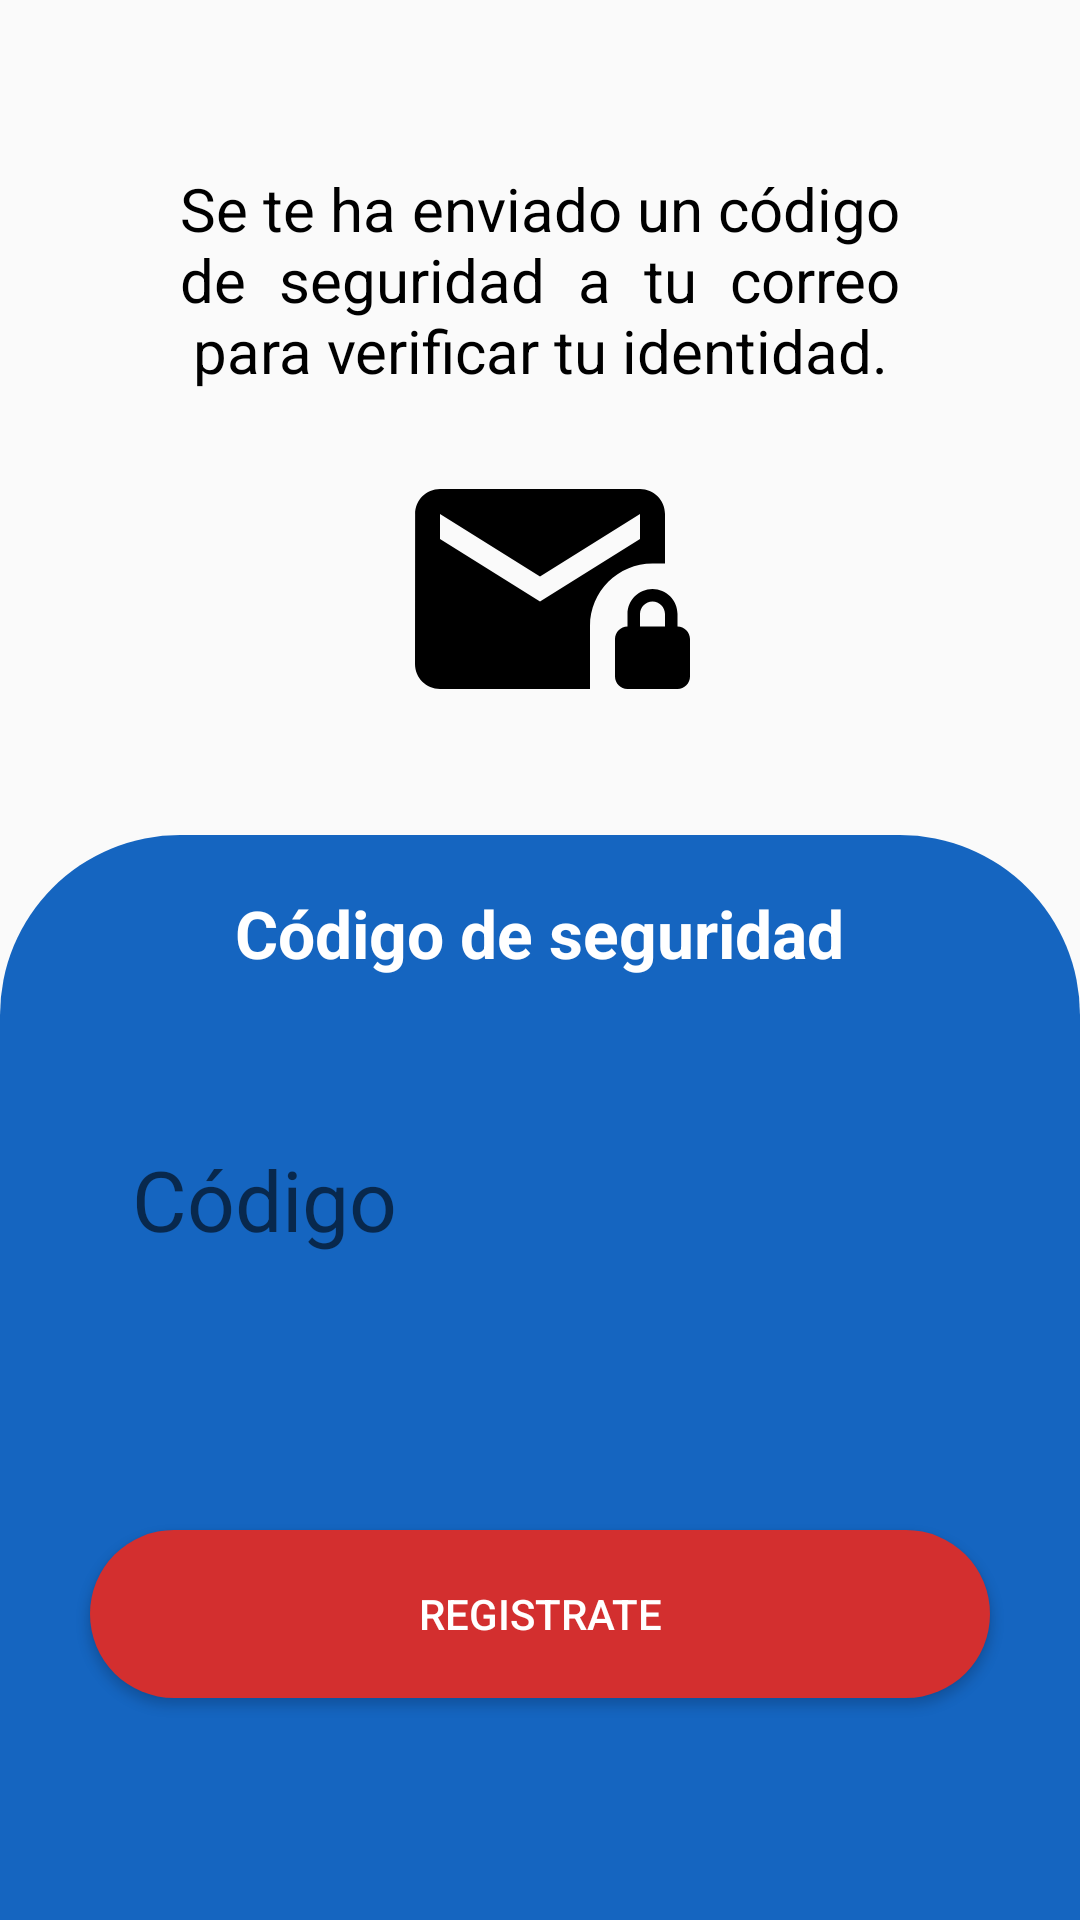

Named icons in this screenshot (1080*1920) and their centers, point (x, y):
mail lock: point (552, 589)
